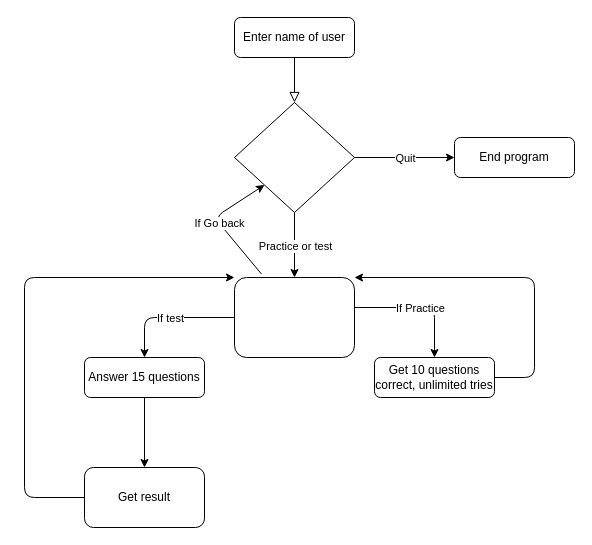
The diagram is 592 pixels wide and 545 high, and some of its shapes have lost their labels. The box of each missing label's shape, as (x1, y1, x2, y2) in pixels:
Do you want to practice, test, or quit?: (234, 102, 354, 212)
Want to test/practice addition, subtraction or both? Do you want to go back?: (234, 276, 354, 358)
